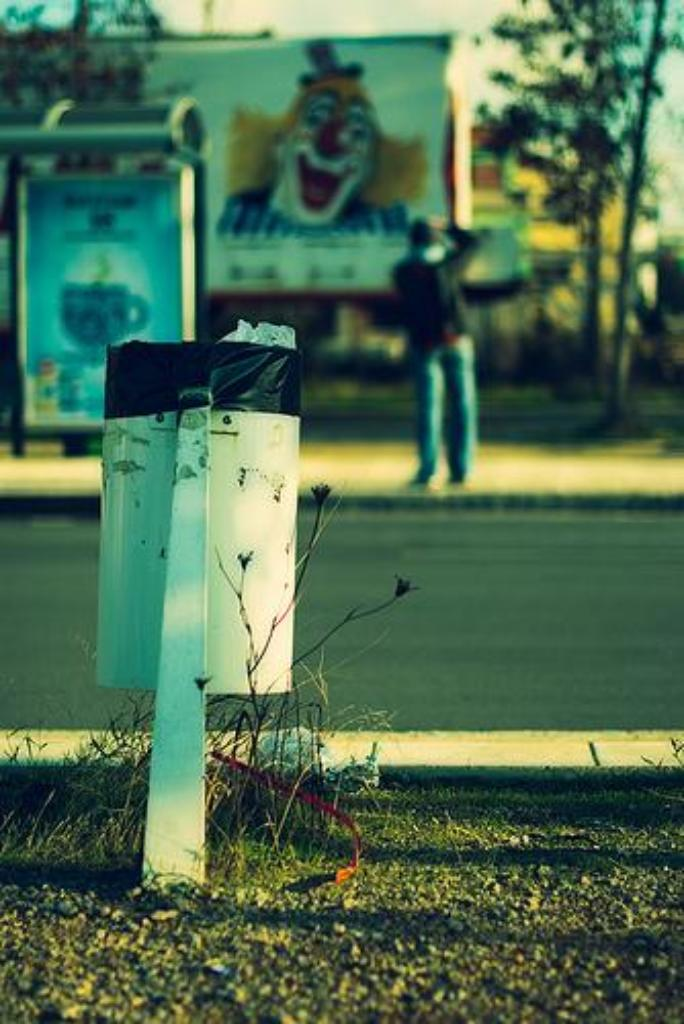dustbin: (98, 328, 315, 896)
